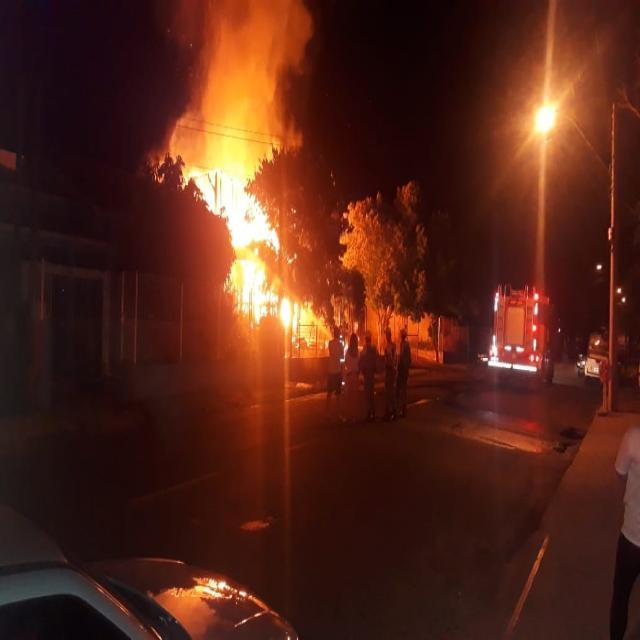Fire: (152, 4, 330, 353), (152, 154, 162, 189), (289, 196, 298, 216), (271, 228, 278, 253), (292, 246, 300, 264)
